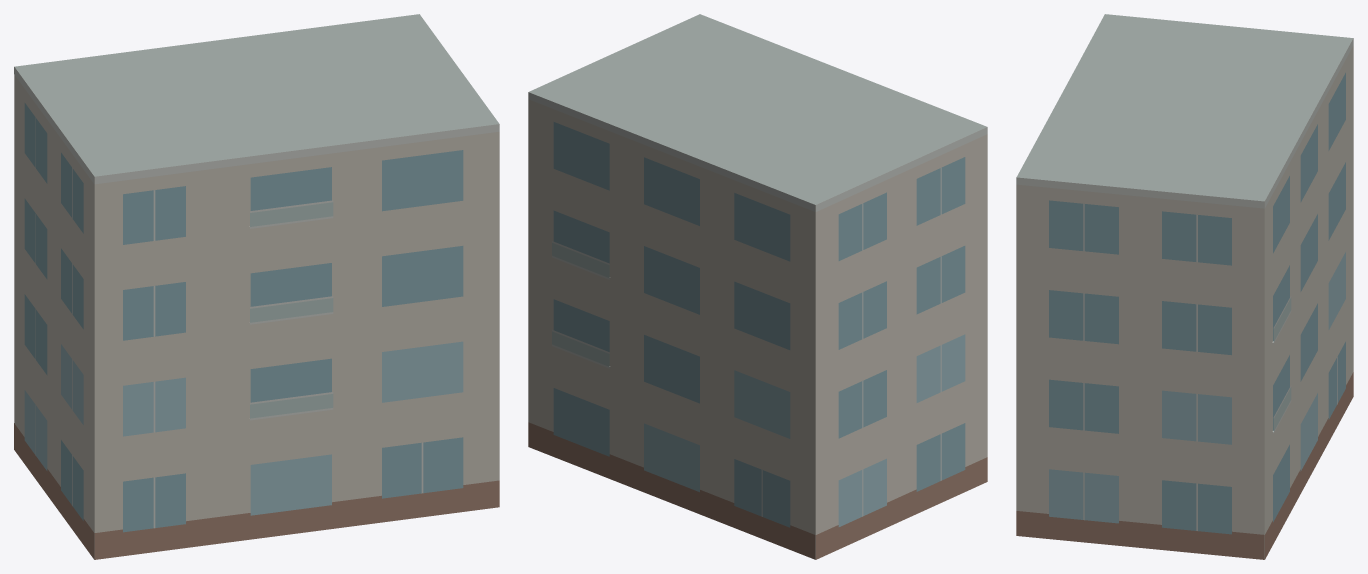
File: residential-eda18ef5-0a66-4efa-95ba-4a39b46baf64.glb
The picture shows the model from 3 angles, left to right: view 1: azimuth 30°, elevation 25°; view 2: azimuth 150°, elevation 25°; view 3: azimuth 270°, elevation 25°; orthographic projection. The views are drawn at different scales.
Visible parts, largest first — view 1: residential-eda18ef5-0a66-4efa-95ba-4a39b46baf64.tmp; view 2: residential-eda18ef5-0a66-4efa-95ba-4a39b46baf64.tmp; view 3: residential-eda18ef5-0a66-4efa-95ba-4a39b46baf64.tmp.
Boxes of the visible parts, x1,y1,x2,y2 form: residential-eda18ef5-0a66-4efa-95ba-4a39b46baf64.tmp: (14,14,499,559); residential-eda18ef5-0a66-4efa-95ba-4a39b46baf64.tmp: (528,14,987,559); residential-eda18ef5-0a66-4efa-95ba-4a39b46baf64.tmp: (1016,14,1353,559).
Size of the model in its own units: 13.69 by 12.2 by 10.41.
